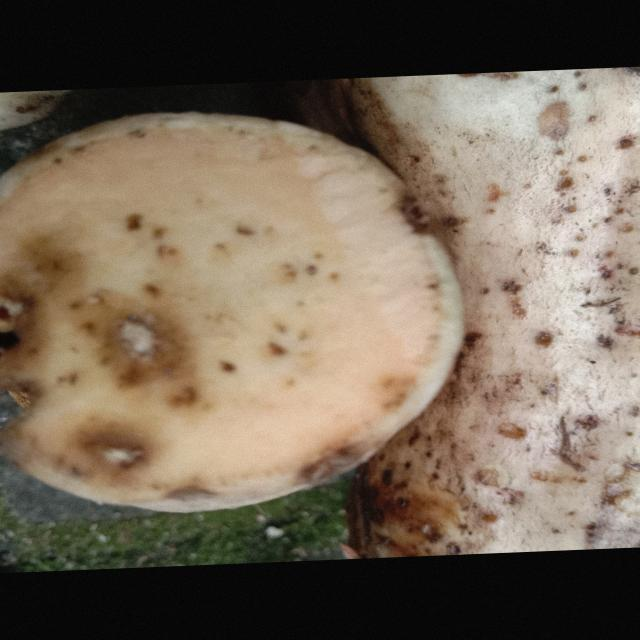Sick Sweet Potato_Tuber Rot: (2, 114, 460, 511)
